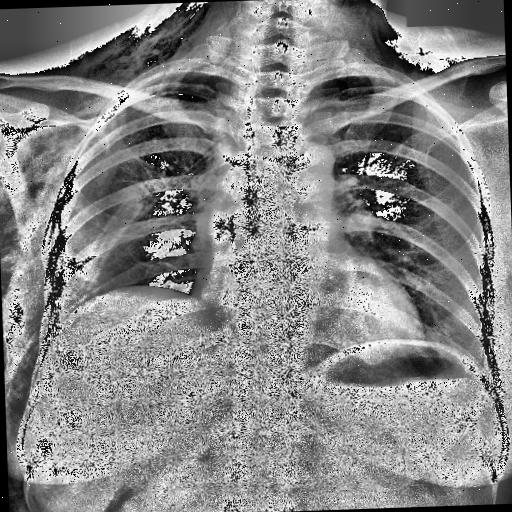7- Lung Opacity: (51, 204, 139, 318)
9- Other lesion: (0, 108, 105, 300), (54, 2, 214, 100), (86, 6, 214, 80), (134, 134, 228, 230), (361, 15, 459, 81), (369, 20, 463, 80), (368, 14, 451, 78)
